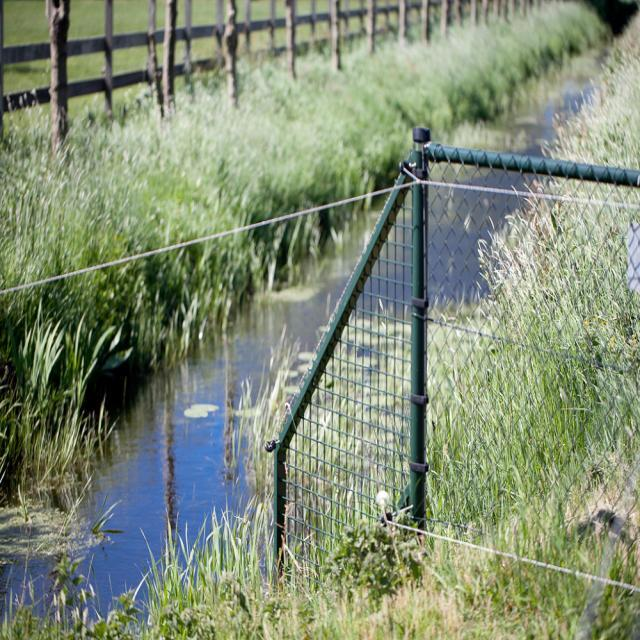fence line: (405, 133, 635, 618), (297, 183, 420, 571)
